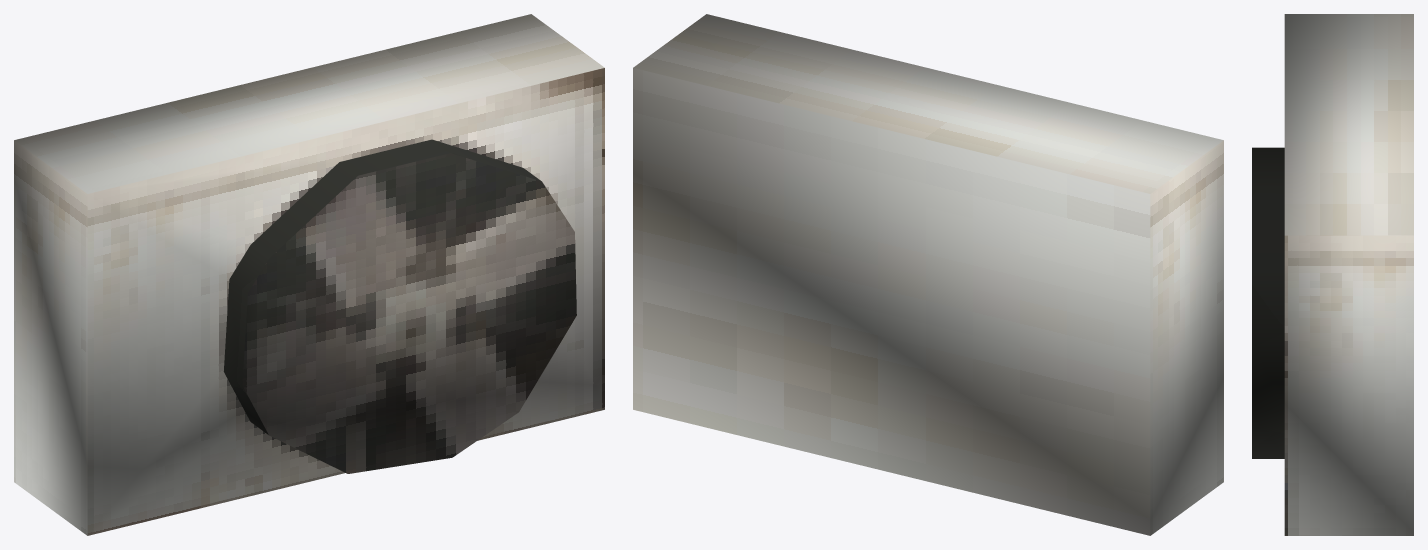
File: Air Conditioner.glb
3 renders of one model, left to right at view 1: azimuth 30°, elevation 25°; view 2: azimuth 150°, elevation 25°; view 3: azimuth 270°, elevation 25°, orthographic. The views are drawn at different scales.
Parts seen in each view (by area): view 1: AirConditioner; view 2: AirConditioner; view 3: AirConditioner.
Part boxes in pixels (box(x1,y1,x2,y2)): AirConditioner: box(14, 14, 604, 535); AirConditioner: box(633, 14, 1223, 535); AirConditioner: box(1252, 14, 1413, 535).
Size of the model in its own units: 1.55 by 0.9815 by 0.4794.
Materials: 1 (1 with a texture image).
